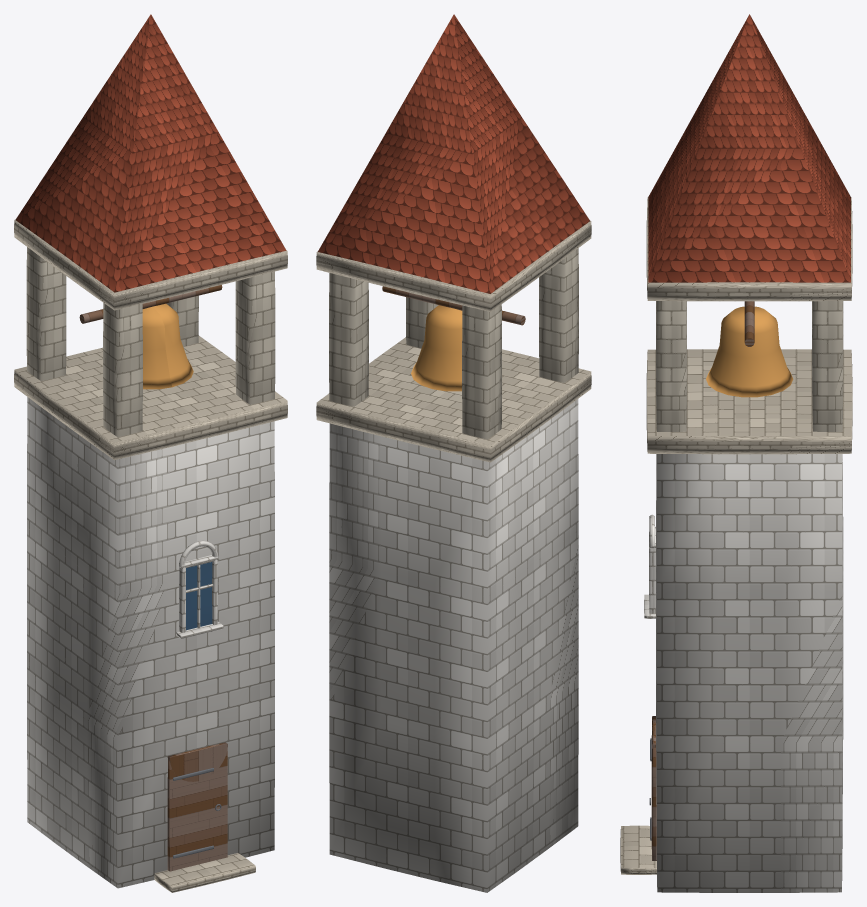
File: building_bell_tower.glb
3 renders of one model, left to right at view 1: azimuth 30°, elevation 25°; view 2: azimuth 150°, elevation 25°; view 3: azimuth 270°, elevation 25°, orthographic. The views are drawn at different scales.
Visible parts, largest first — view 1: building_bell_tower_stone_blocks, building_bell_tower; view 2: building_bell_tower_stone_blocks, building_bell_tower; view 3: building_bell_tower_stone_blocks, building_bell_tower.
Part boxes in pixels (box(x1,y1,x2,y2)): building_bell_tower_stone_blocks: box(14, 220, 287, 892); building_bell_tower: box(15, 14, 286, 871); building_bell_tower_stone_blocks: box(316, 221, 591, 892); building_bell_tower: box(318, 14, 589, 391); building_bell_tower_stone_blocks: box(620, 197, 852, 892); building_bell_tower: box(648, 14, 850, 860).
Size of the model in its own units: 3.3 by 14.85 by 3.72.
Materials: 6 (3 with a texture image).
